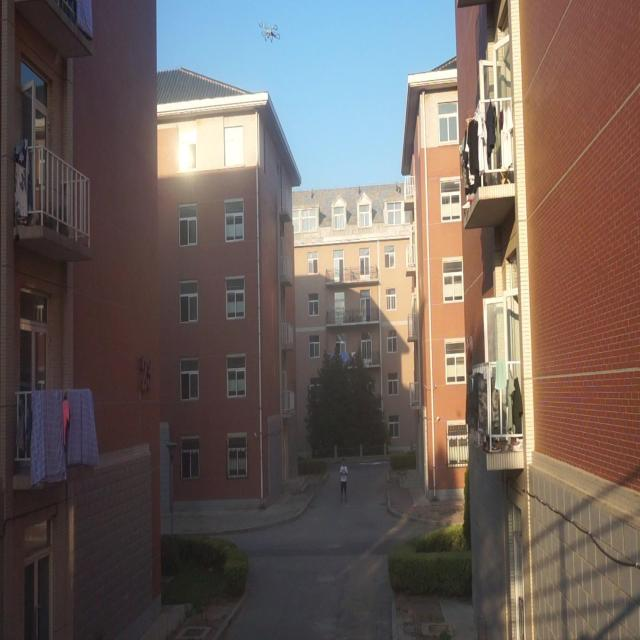drone: (255, 18, 287, 49)
